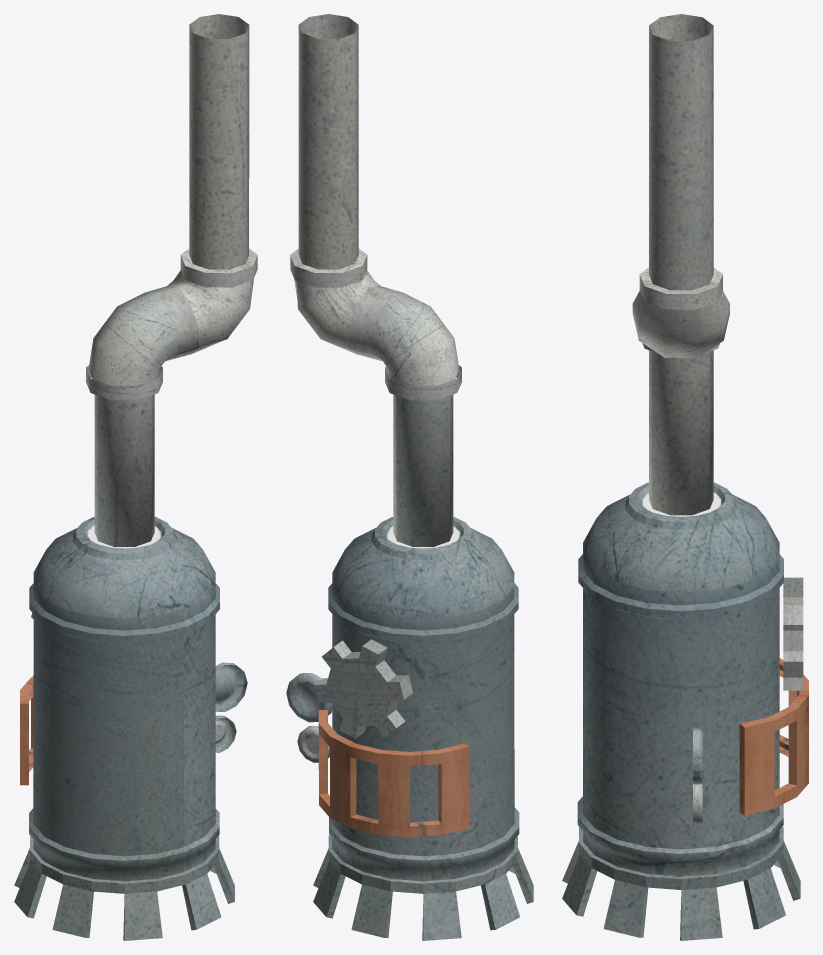
Rendered from steam.FBX.
3 renders of one model, left to right at view 1: azimuth 30°, elevation 25°; view 2: azimuth 150°, elevation 25°; view 3: azimuth 270°, elevation 25°, orthographic. The views are drawn at different scales.
Visible parts, largest first — view 1: steam; view 2: steam; view 3: steam.
Boxes of the visible parts, x1,y1,x2,y2 form: steam: (14, 14, 257, 940); steam: (286, 14, 533, 940); steam: (562, 14, 808, 940).
Size of the model in its own units: 53.35 by 191 by 46.75.
Materials: 1 (1 with a texture image).
